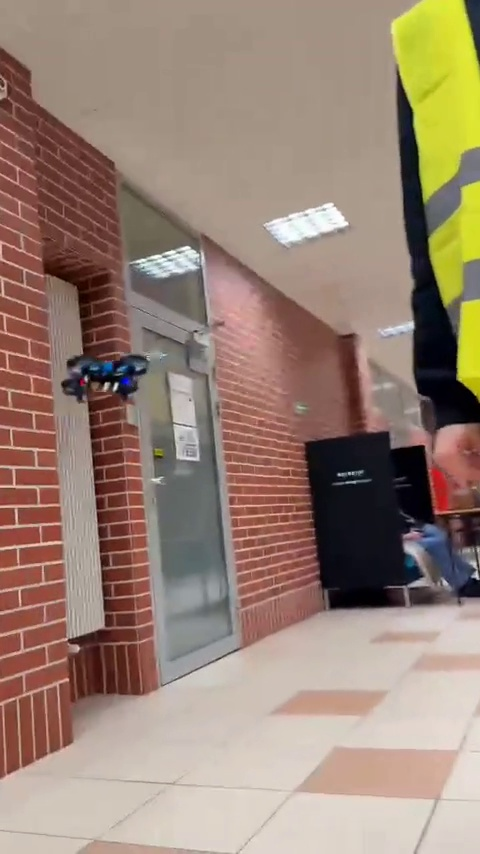drone: (56, 357, 150, 400)
